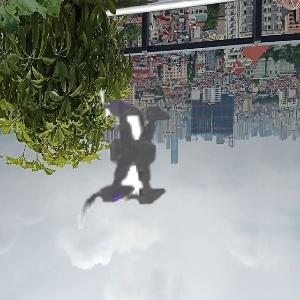drone: (7, 18, 268, 279)
